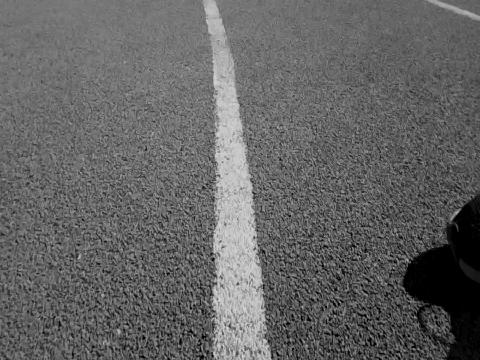Lines: (202, 0, 274, 360)
